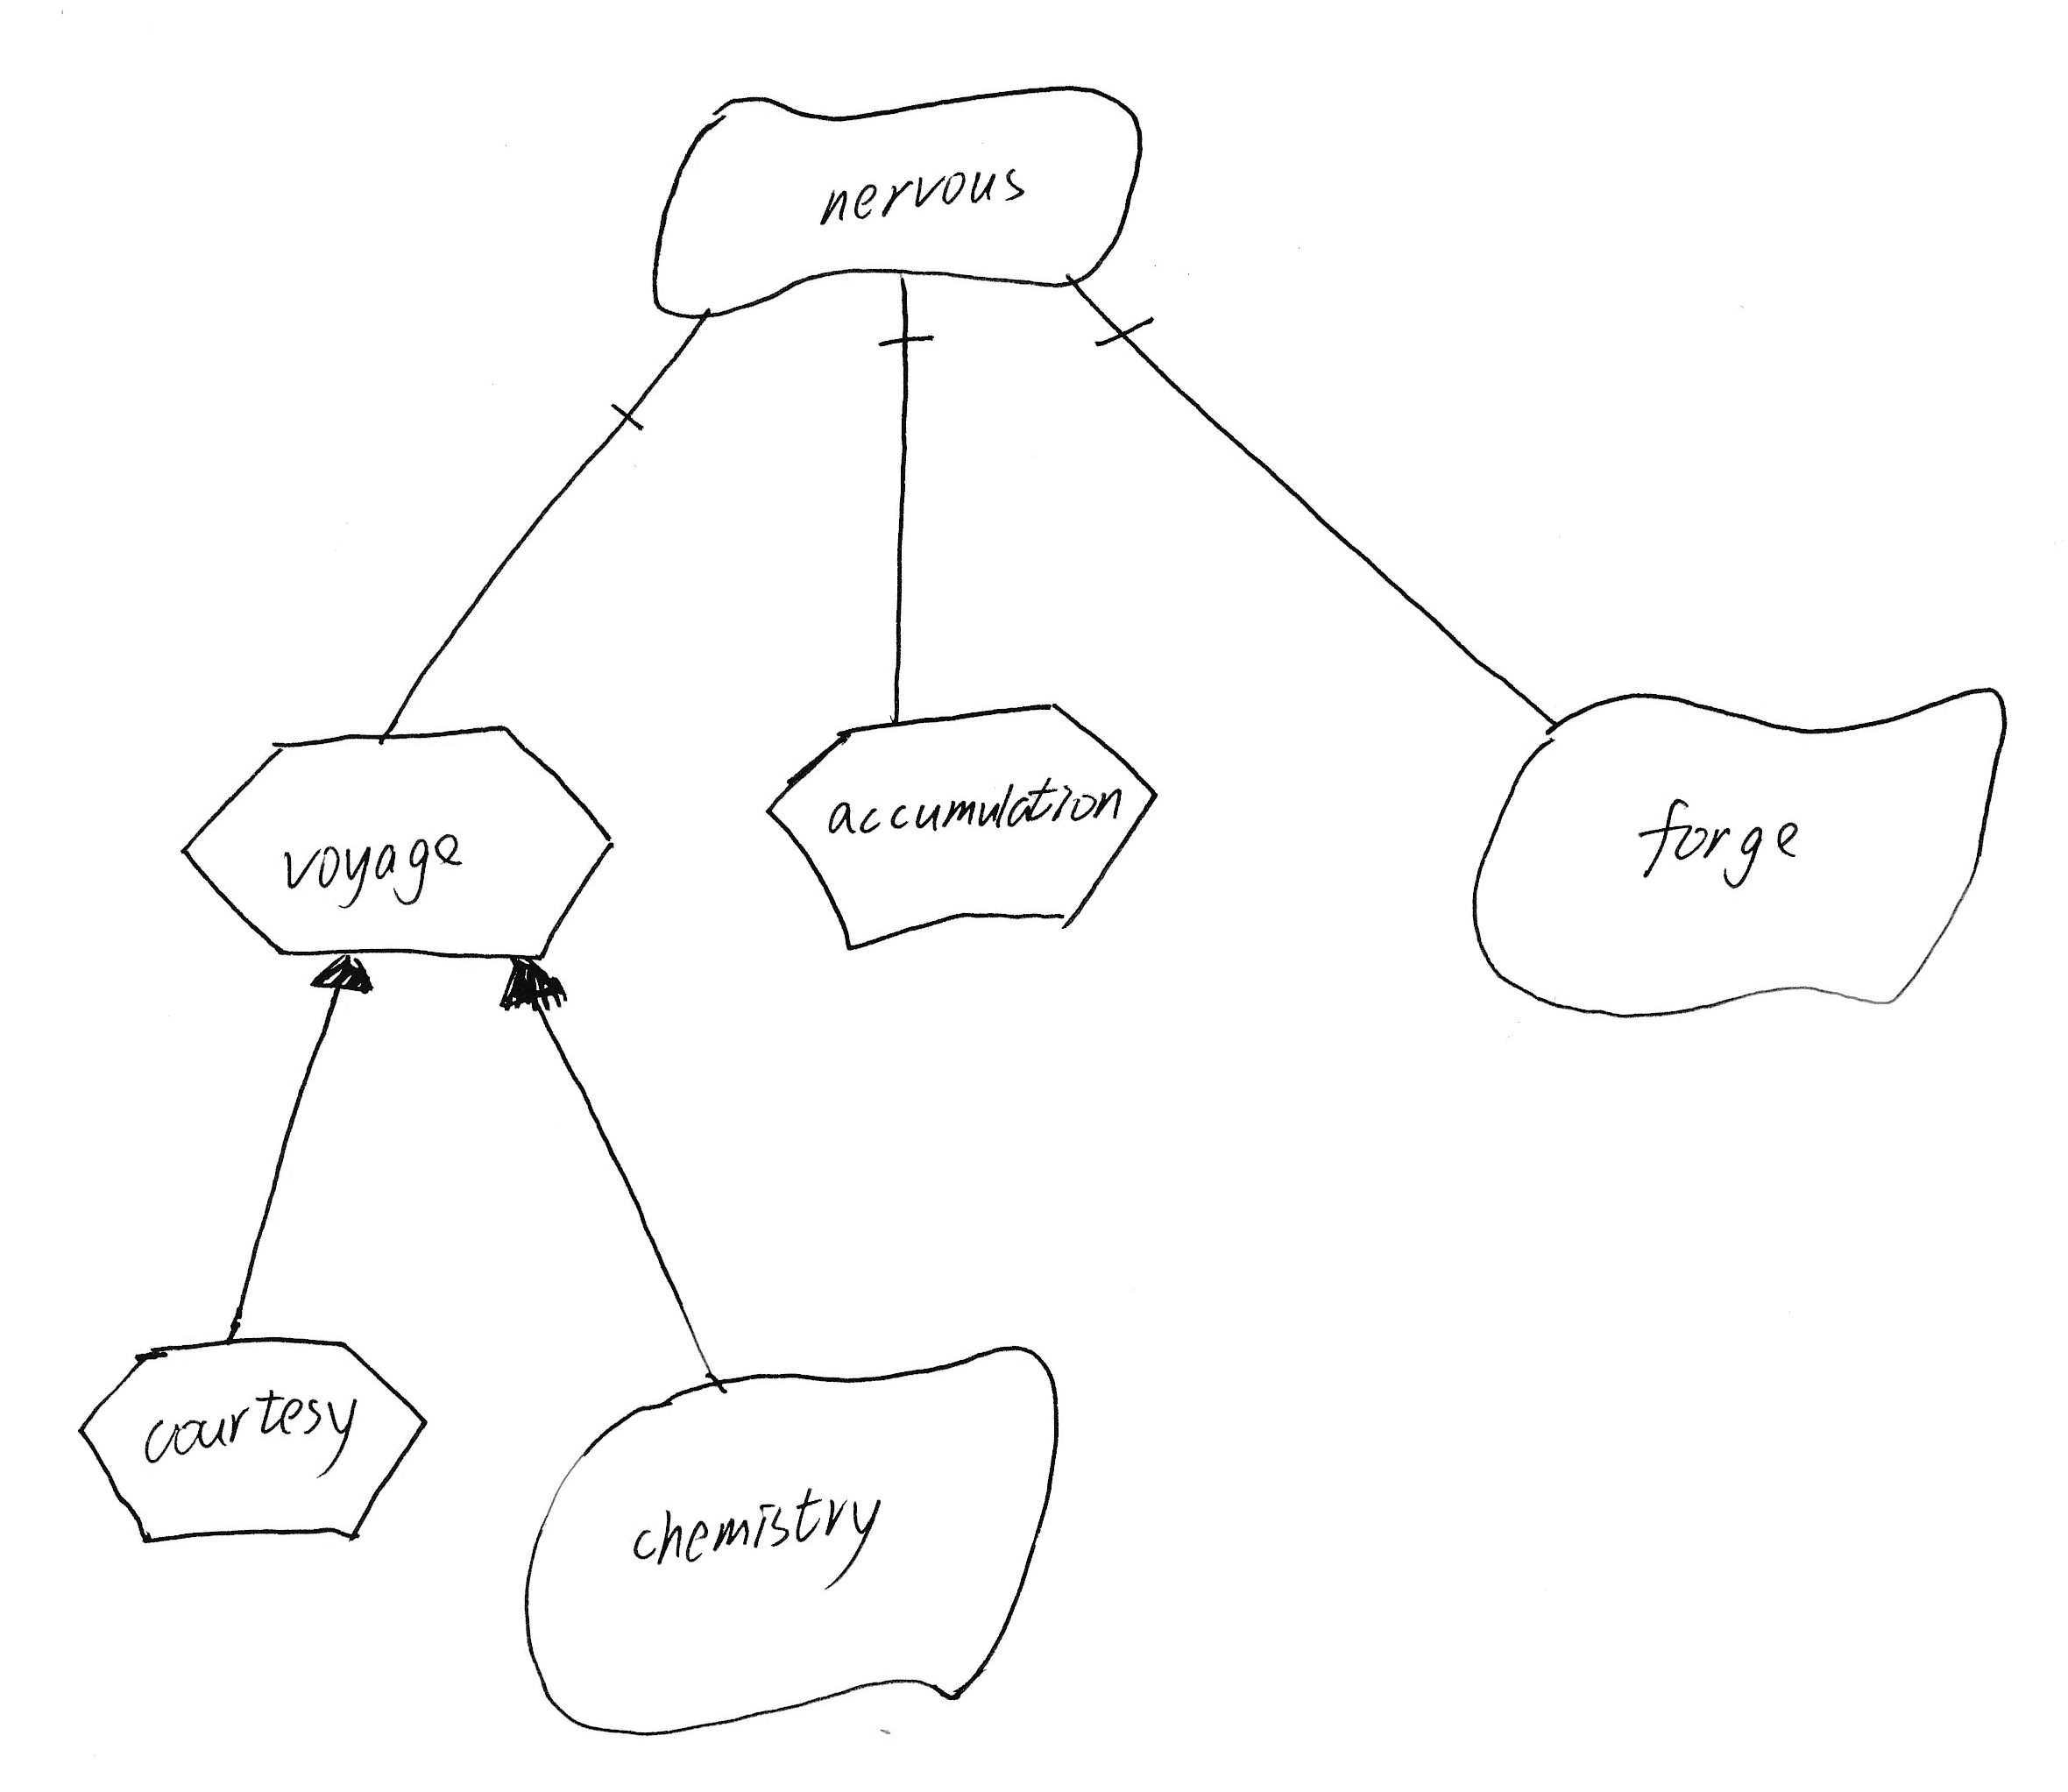and: (598, 288, 730, 455), (1052, 262, 1166, 373), (865, 264, 946, 361)
or: (485, 936, 573, 1020), (304, 937, 389, 1013)
quality: (503, 1326, 1087, 1755), (1435, 663, 2035, 1041), (635, 63, 1162, 341)
task: (155, 705, 637, 992), (747, 681, 1176, 964), (60, 1308, 448, 1555)
